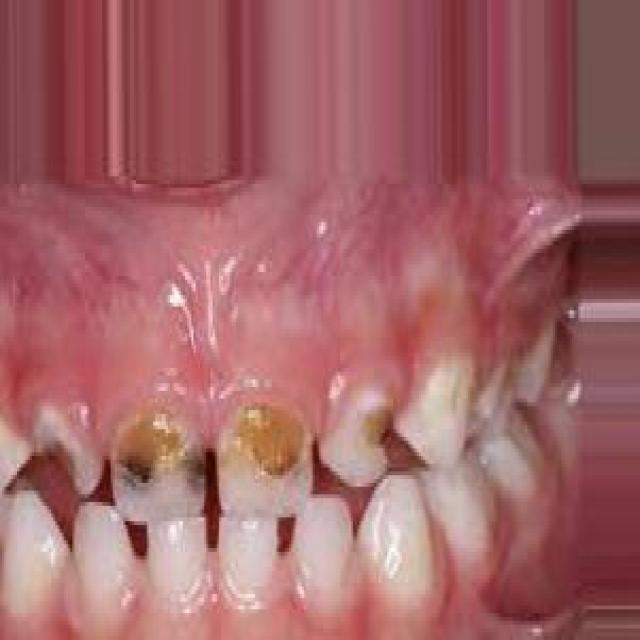caries: (218, 396, 316, 526), (108, 404, 204, 533), (36, 407, 104, 506), (326, 381, 396, 476)
